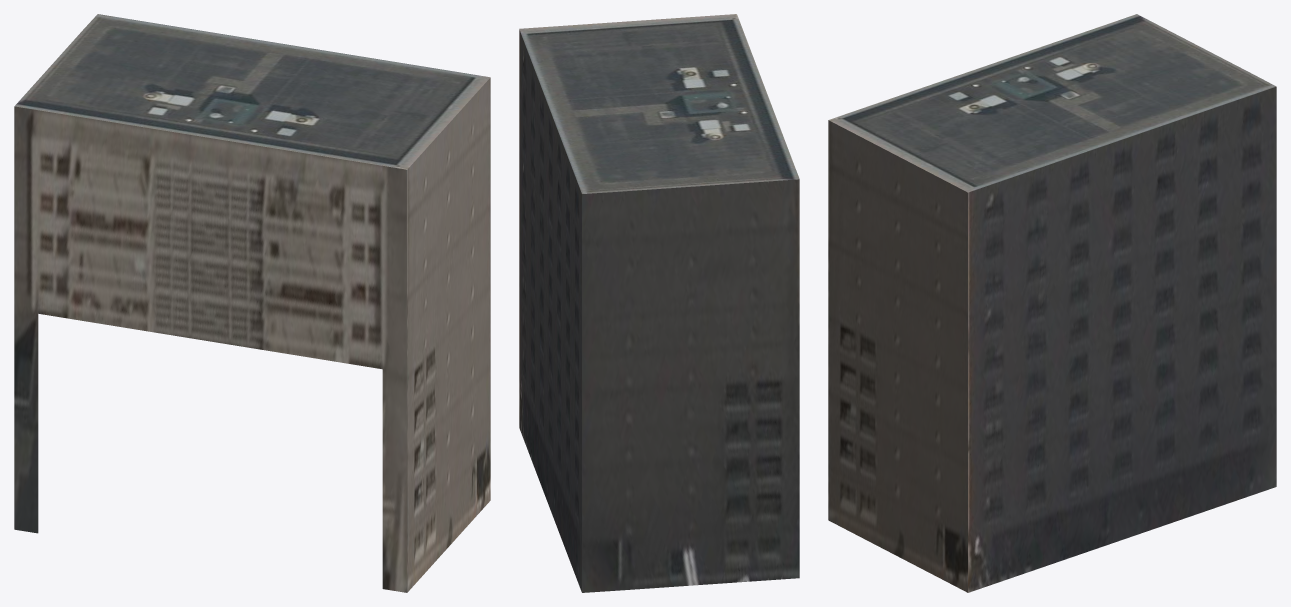
3 views of the same model, side by side, from view 1: azimuth 30°, elevation 25°; view 2: azimuth 150°, elevation 25°; view 3: azimuth 270°, elevation 25° (orthographic). The views are drawn at different scales.
Visible parts, largest first — view 1: Z_UP; view 2: Z_UP; view 3: Z_UP.
Boxes of the visible parts, <box> form: Z_UP: <box>14,14,490,592</box>; Z_UP: <box>519,14,799,592</box>; Z_UP: <box>828,14,1276,592</box>.
Bounding box in the file's own units: 27.47 × 28.7 × 29.13.
7 materials, 6 textured.
